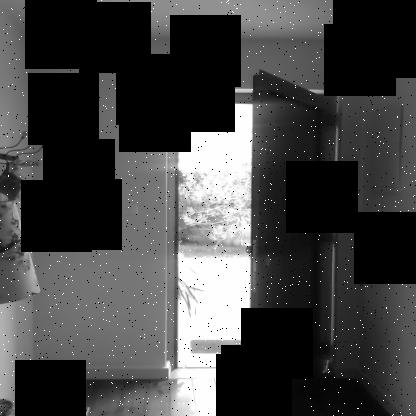Porte: (164, 67, 343, 415)
